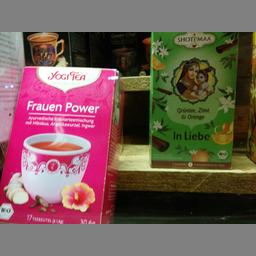tea: (0, 66, 119, 223), (148, 32, 238, 168)
